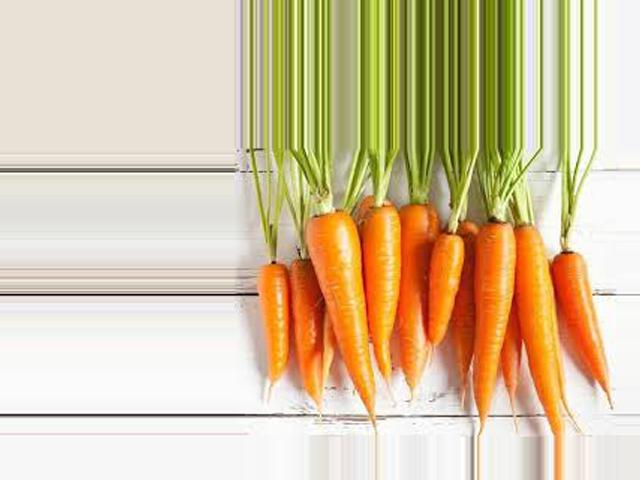carrot: (246, 252, 302, 396)
